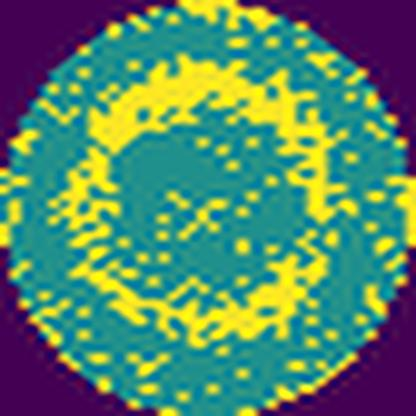Donut: (49, 44, 363, 355)
